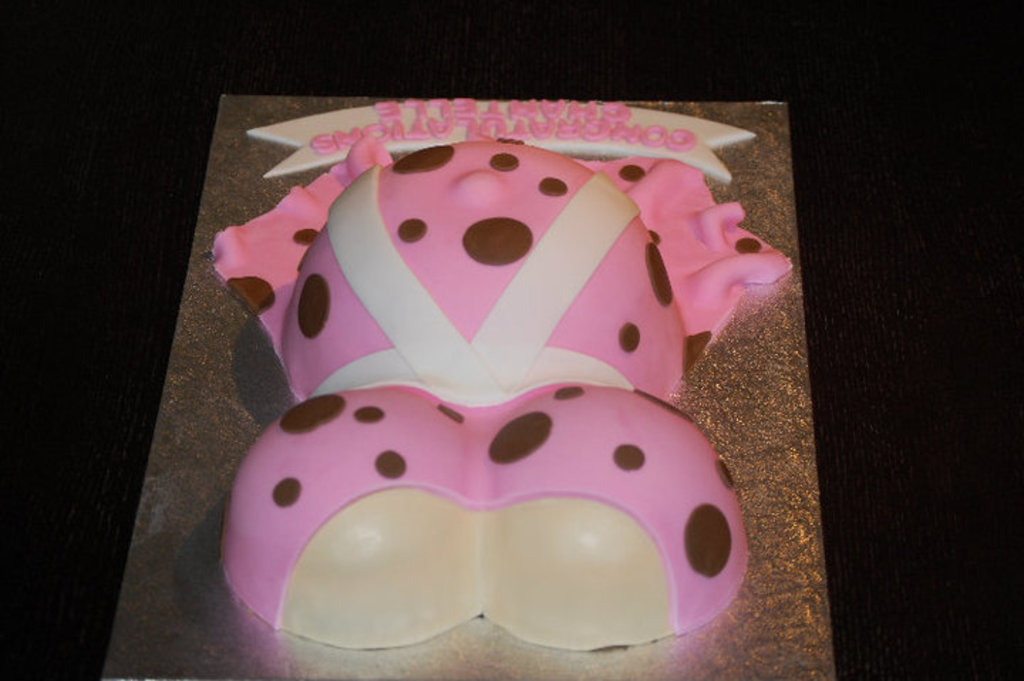cake: (212, 135, 795, 648)
